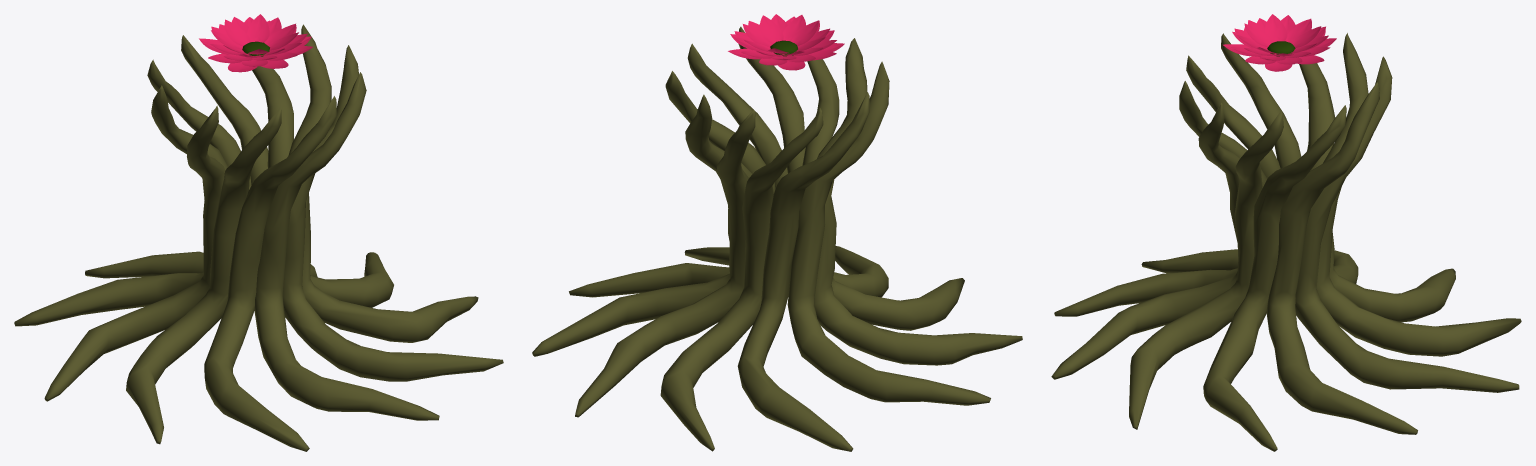
The model's file is PlantPinoState02.gltf.
3 views of the same model, side by side, from view 1: azimuth 30°, elevation 25°; view 2: azimuth 150°, elevation 25°; view 3: azimuth 270°, elevation 25° (orthographic).
Visible parts, largest first — view 1: Pino3, Flower.002; view 2: Pino3, Flower.002; view 3: Pino3, Flower.002.
Part boxes in pixels (x1=…): Pino3: x1=14, y1=24, x2=503, y2=451; Flower.002: x1=199, y1=14, x2=312, y2=72; Pino3: x1=532, y1=26, x2=1022, y2=451; Flower.002: x1=728, y1=14, x2=844, y2=70; Pino3: x1=1051, y1=33, x2=1521, y2=451; Flower.002: x1=1223, y1=14, x2=1336, y2=71.
Size of the model in its own units: 2.03 by 1.46 by 1.96.
